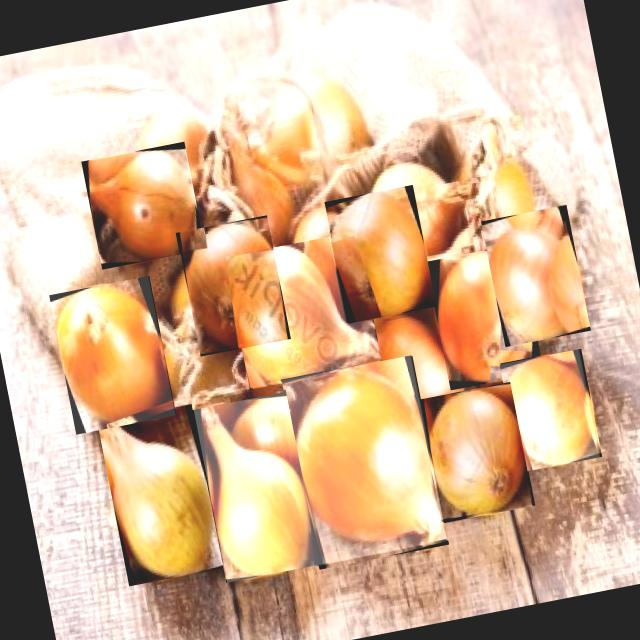healthy: (297, 368, 443, 543), (233, 249, 378, 381), (201, 406, 310, 575), (102, 422, 214, 575), (58, 286, 169, 425), (438, 252, 533, 382), (331, 192, 429, 316), (430, 391, 526, 515), (90, 150, 196, 259), (187, 222, 277, 349), (493, 207, 567, 340), (508, 355, 593, 464)
